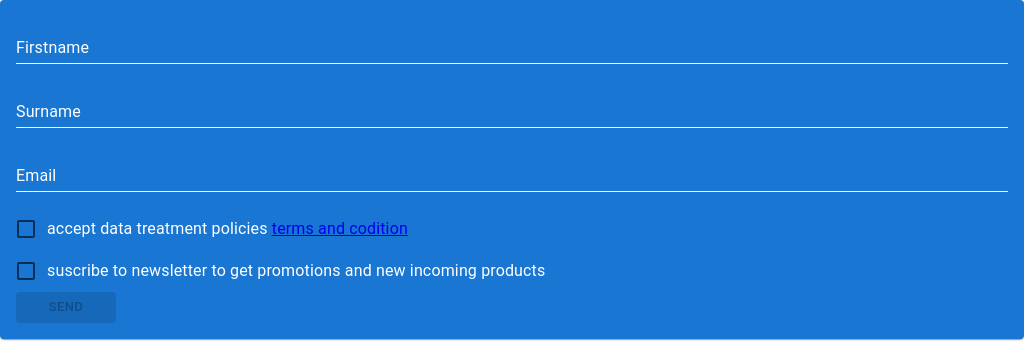
Scenario: inputs start to update › insert in inputs and click on checkboxes
Type "jhonatan" into the field labelled "Firstname".
click(512, 48); type("jhonatan")  # box [16,32,1008,64]
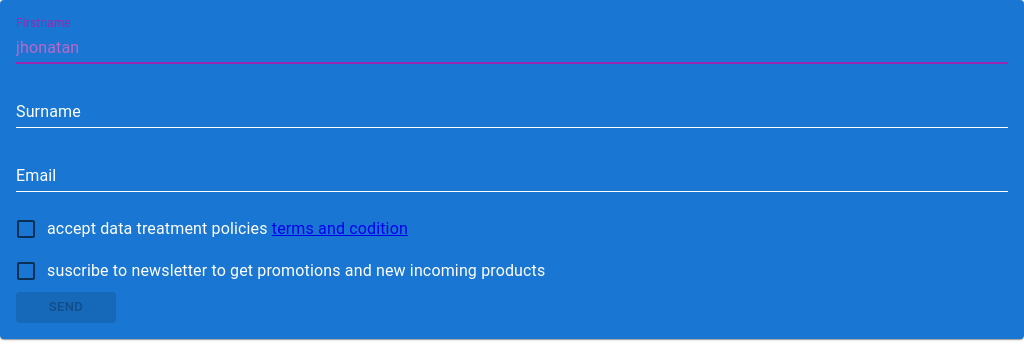
Type "lezcano" into the field labelled "Surname".
click(512, 112); type("lezcano")  # box [16,96,1008,128]
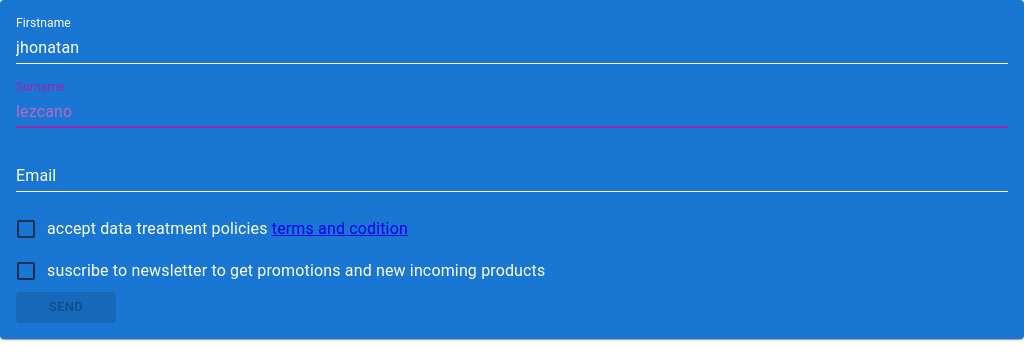
Type "mail@gmail.com" into the field labelled "Email".
click(512, 176); type("mail@gmail.com")  # box [16,160,1008,192]
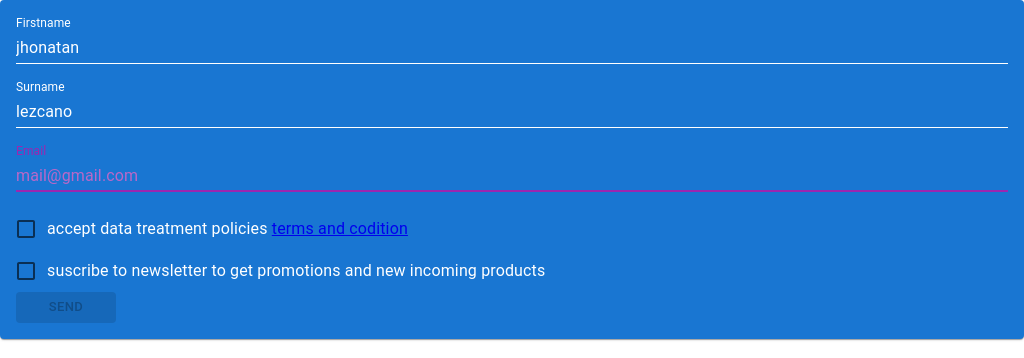
Click the checkbox labelled "newsletter".
click(280, 271)  # box [14,259,545,283]
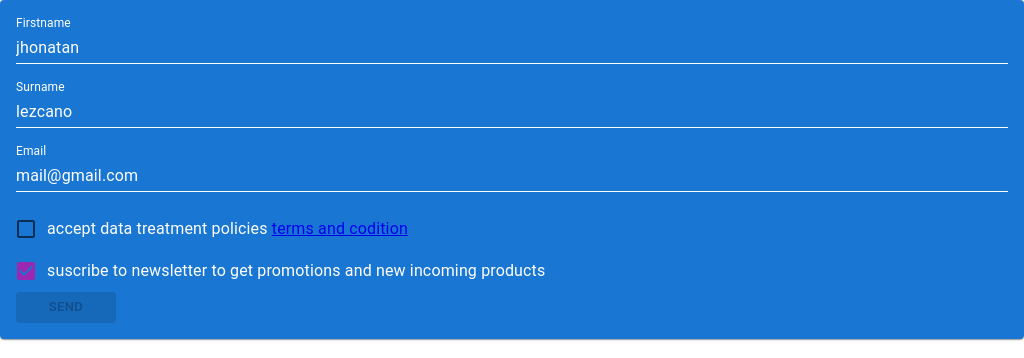
Click the checkbox named "datatreatmen".
click(211, 229)  # box [14,217,408,241]
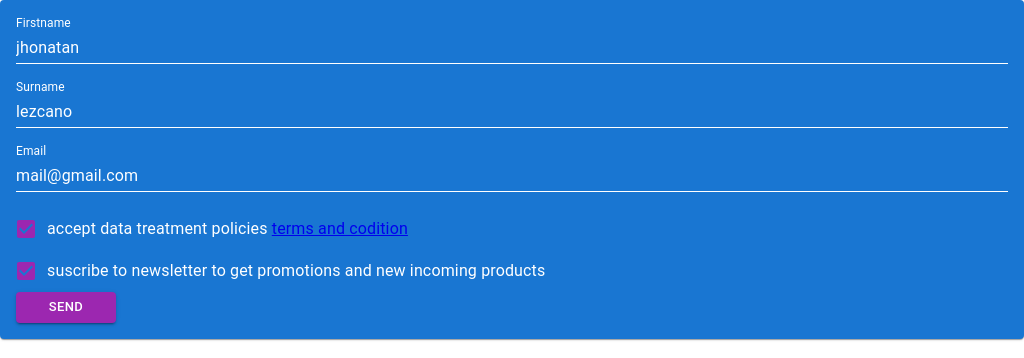
expect the checkbox labelled "newsletter" is checked: met, box [14,259,545,283]
expect the checkbox named "datatreatmen" is checked: met, box [14,217,408,241]
expect the button with aria-label "submit" is enabled: met, box [16,292,116,323]
